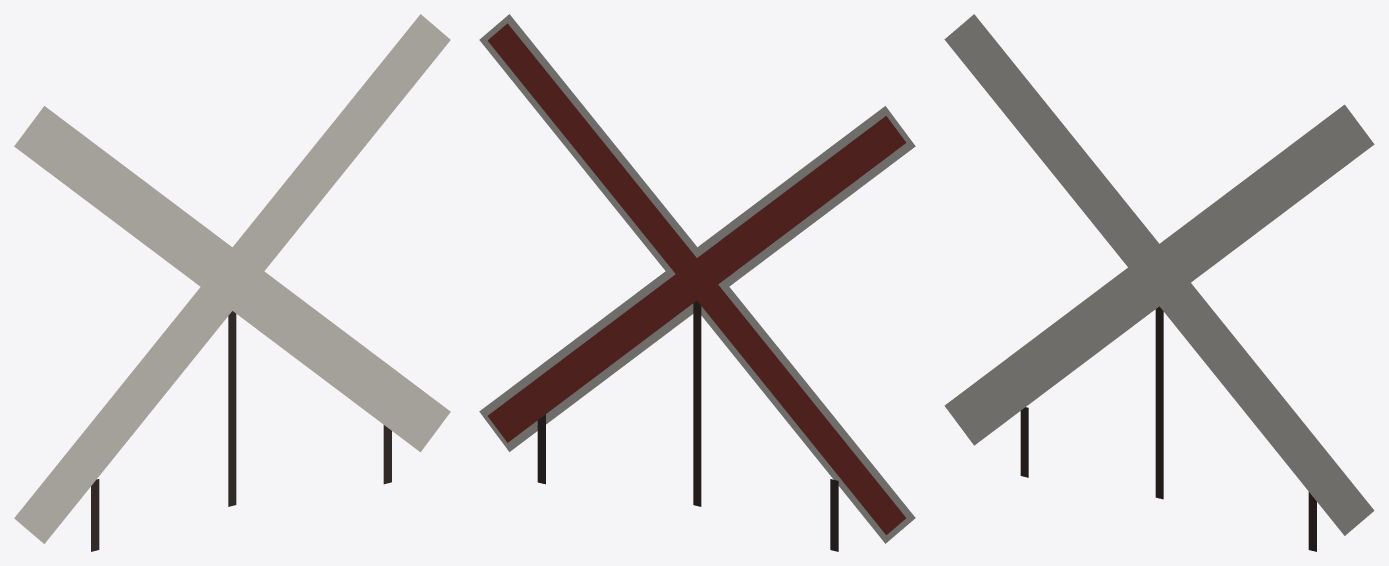
Rendered from graffiti_x.glb.
3 views of the same model, side by side, from view 1: azimuth 30°, elevation 25°; view 2: azimuth 150°, elevation 25°; view 3: azimuth 330°, elevation 25° (orthographic).
Visible parts, largest first — view 1: graffiti_x; view 2: graffiti_x; view 3: graffiti_x.
Part boxes in pixels (x1=…): graffiti_x: x1=14, y1=14, x2=450, y2=551; graffiti_x: x1=479, y1=14, x2=915, y2=551; graffiti_x: x1=944, y1=14, x2=1374, y2=551.
Size of the model in its own units: 2.39 by 2.41 by 0.005.
2 materials, 2 textured.
